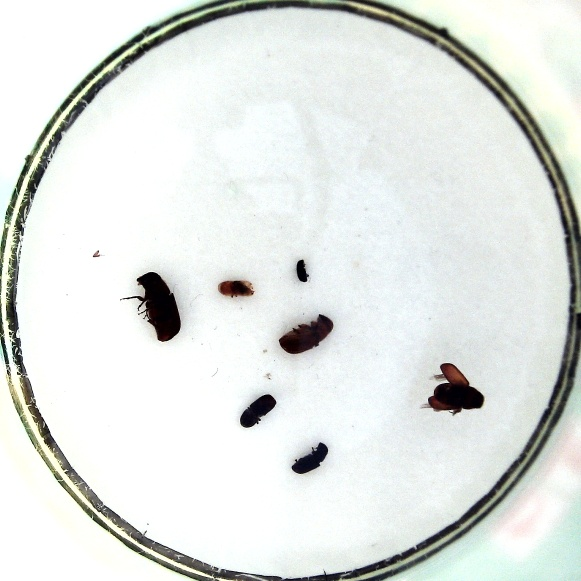acuminatus: (218, 277, 256, 300)
armandi: (291, 441, 329, 473)
coleoptera: (295, 258, 312, 284)
leconte: (130, 271, 181, 341), (427, 361, 485, 414), (278, 311, 335, 355)
linnaeus: (239, 393, 277, 427)
